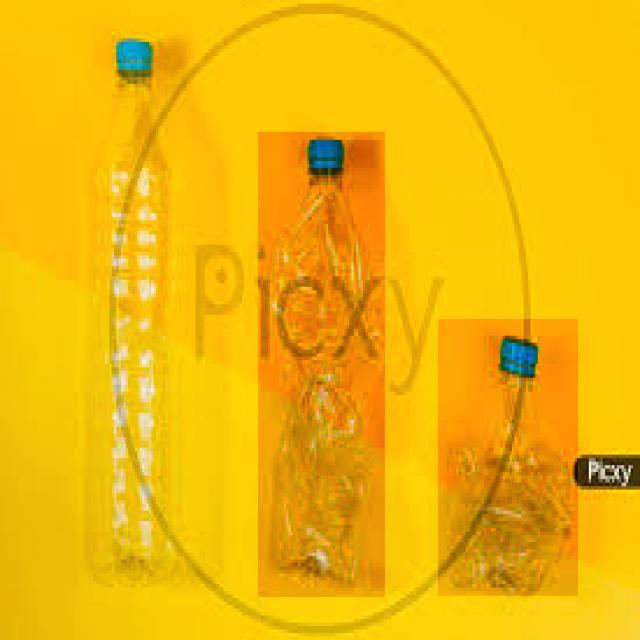BIODEGRADABLE: (78, 28, 192, 602), (258, 132, 385, 597), (438, 319, 578, 596)
